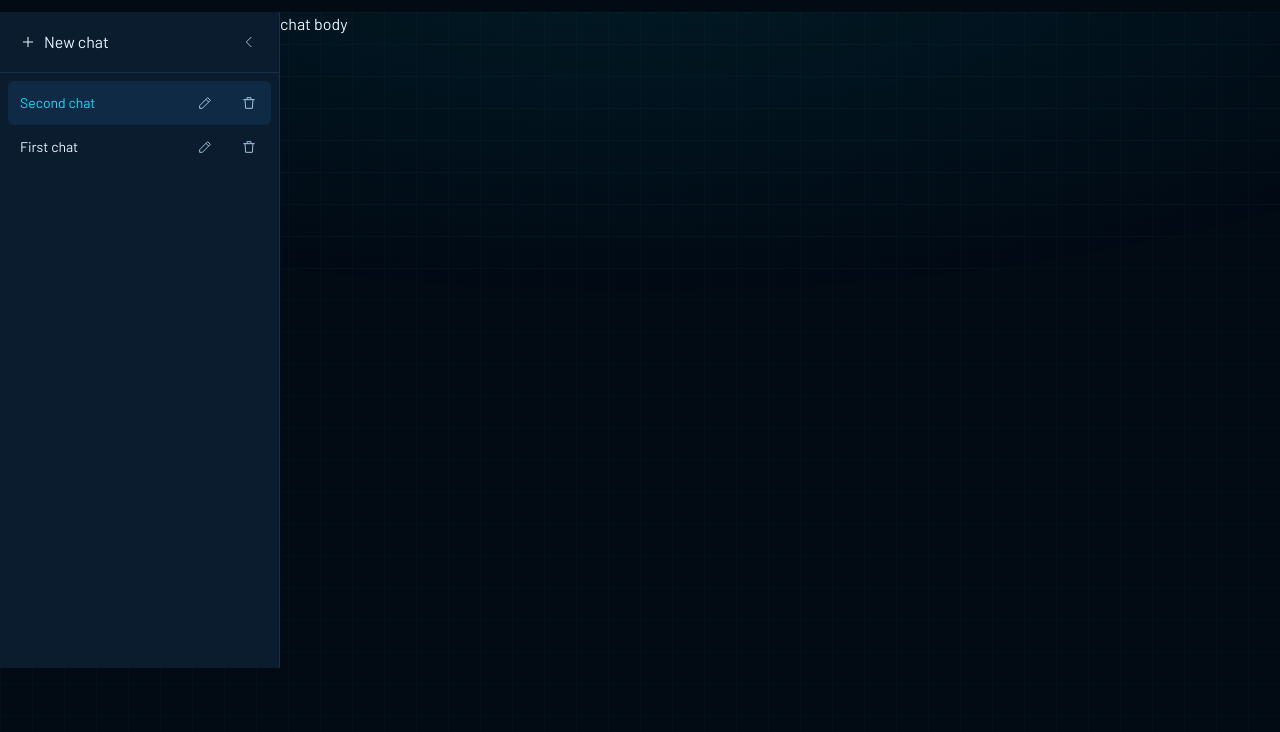
Test: conversation panel (M2-7) › renames a conversation only after the server confirms it
This screenshot has width=1280, height=732.
Click the button named "Rename Second chat" at (205, 103), box [183,81,227,125]
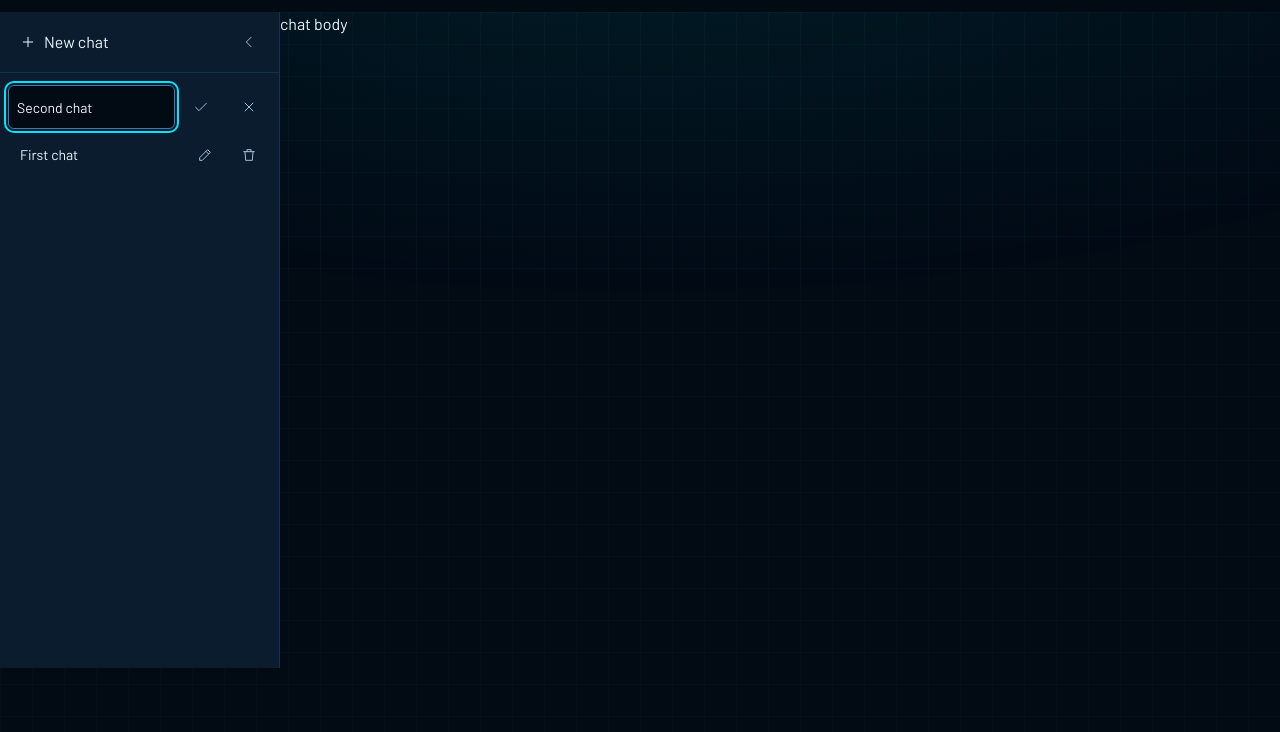
Replace the text in the field named "New title" with "Renamed chat" at (92, 107), box [8,85,175,129]
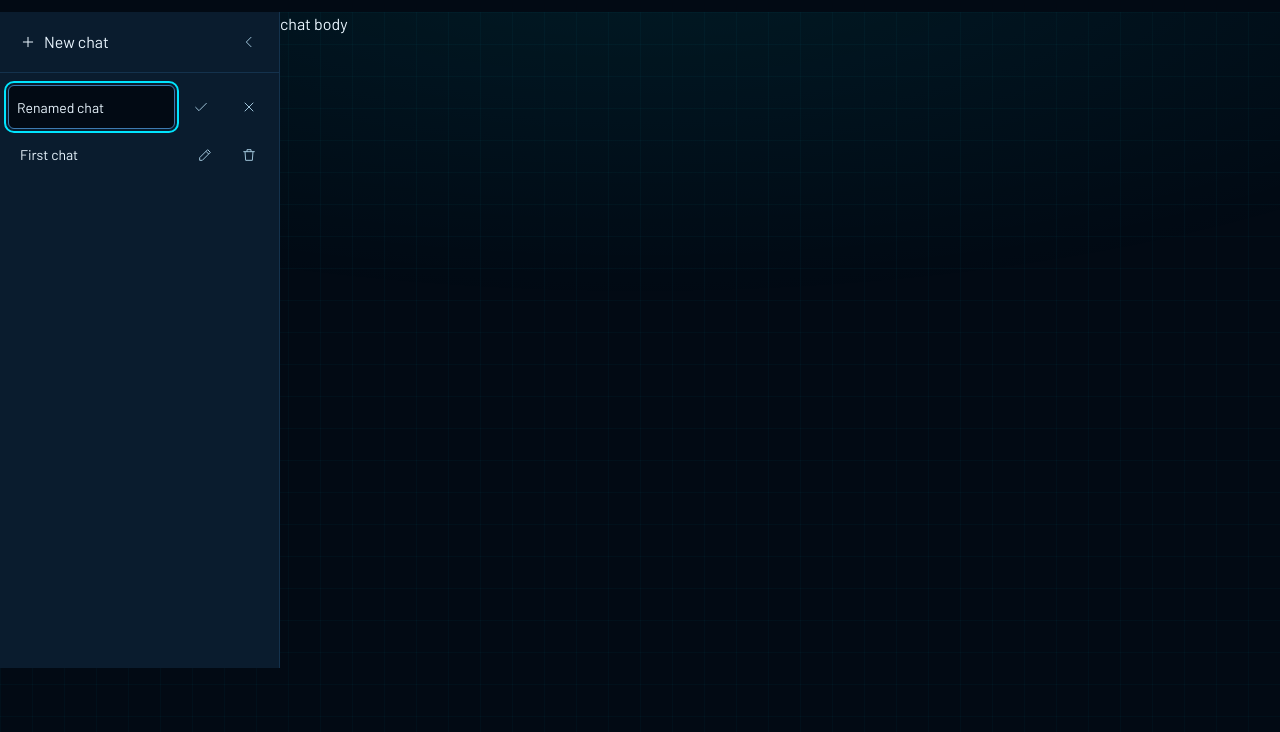
Click the button named "Save title" at (201, 107), box [179,85,223,129]
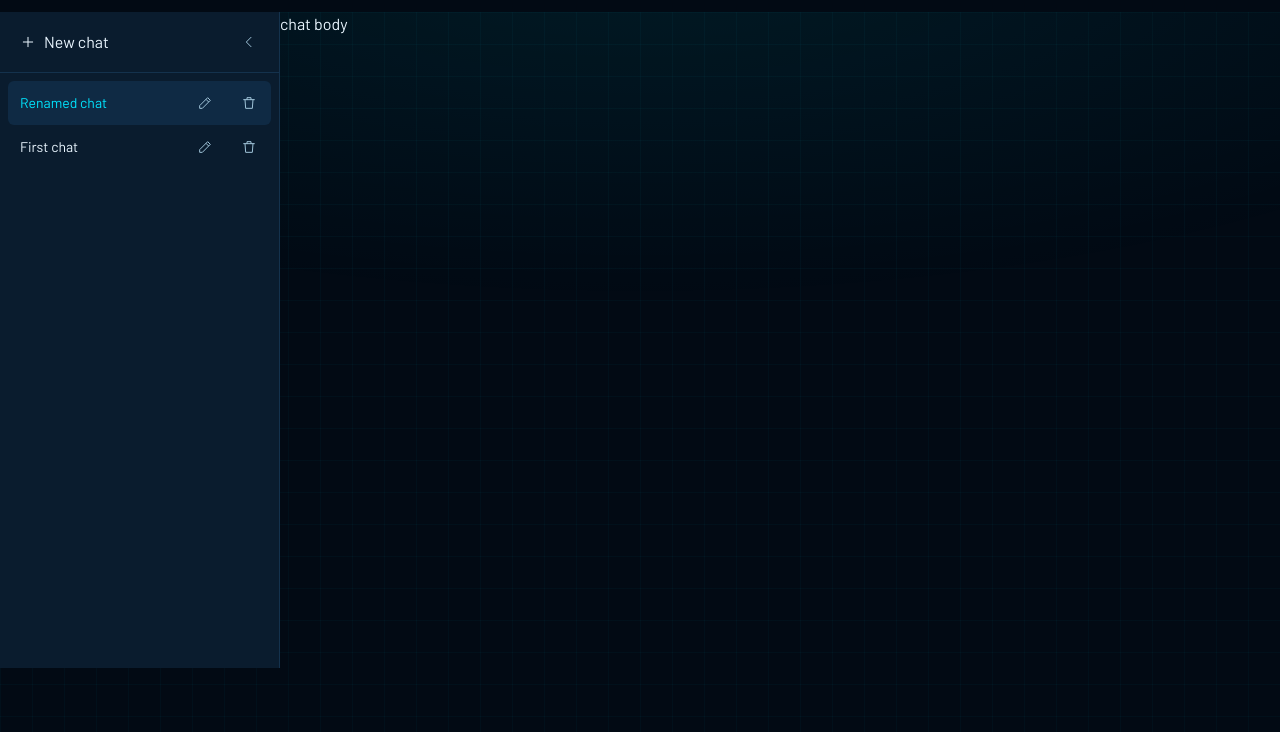
Expected: the link "Second chat" is not shown
Expected: the text "Renamed chat" is shown, [20,93,107,113]
